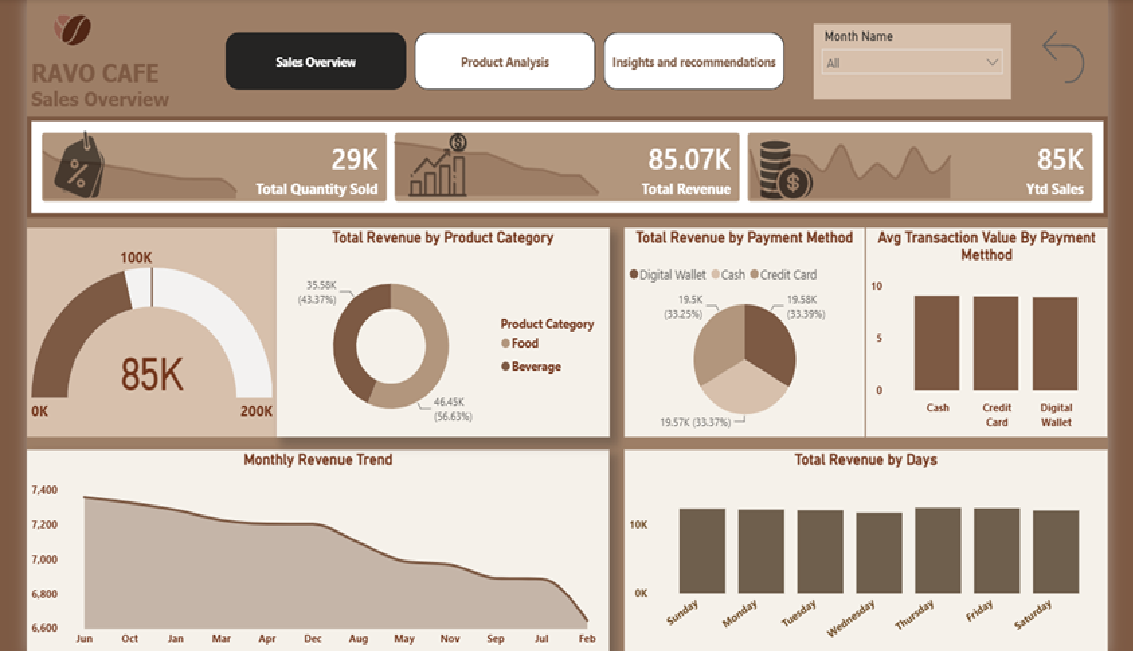

The page's visual inventory and layout, read from the dashboard file:
{"tool":"powerbi","page":{"name":"Sales Overview","canvas":[1280,720],"ordinal":0},"visuals":[{"type":"image","box":[0,0,108.2,68.4],"z":0},{"type":"textbox","box":[0,58.9,235.4,70],"z":1000},{"type":"cardVisual","fields":{"Data":["Measure Table.Total Quantity","Measure Table.Total Sales","Measure Table.Ytd Sales"]},"box":[0,128.8,1280.4,111.3],"z":2000},{"type":"lineChart","title":"Monthly Revenue Trend","fields":{"Y":["Measure Table.Total Sales"],"Category":["Cafe Sales Data.Month Name"]},"box":[0,494.7,690.3,225.9],"z":3000},{"type":"pieChart","fields":{"Y":["Measure Table.Total Sales"],"Category":["Cafe Sales Data.Payment Method"]},"box":[707.8,251.3,284.7,229],"z":4000},{"type":"columnChart","title":"Avg Transaction Value By Payment Metthod","fields":{"Category":["Cafe Sales Data.Payment Method"],"Y":["Measure Table.Avg Amount By Payment Method"]},"box":[994.1,251.3,286.3,229],"z":5000},{"type":"image","box":[416.7,140,140,84.3],"z":6000},{"type":"lineChart","fields":{"Y":["Measure Table.Ytd Sales"],"Category":["Cafe Sales Data.Month Name"]},"box":[843,143.2,264,81.1],"z":7000},{"type":"lineChart","fields":{"Y":["Measure Table.Total Quantity Sold"],"Category":["Cafe Sales Data.Month Name"]},"box":[6.4,144.7,254.5,79.5],"z":8000},{"type":"lineChart","fields":{"Y":["Measure Table.Total Sales"],"Category":["Cafe Sales Data.Month Name"]},"box":[421.5,140,268.8,81.1],"z":9000},{"type":"image","box":[825.5,111.3,149.5,152.7],"z":10000},{"type":"image","box":[6.4,111.3,116.1,144.7],"z":11000},{"type":"slicer","fields":{"Values":["Cafe Sales Data.Month Name"]},"box":[932.1,27,233.8,82.7],"z":12000},{"type":"gauge","fields":{"Y":["Measure Table.Ytd Sales"],"TargetValue":["Measure Table.Target Of Year"],"MaxValue":["Measure Table.Max Value"]},"box":[0,251.3,295.9,229],"z":13000},{"type":"donutChart","fields":{"Y":["Measure Table.Total Revenue"],"Category":["Cafe Sales Data.Product Category"]},"box":[295.9,251.3,394.5,229],"z":14000},{"type":"actionButton","box":[1191.4,27,89.1,73.2],"z":15000},{"type":"pageNavigator","box":[235.4,36.6,664.9,63.6],"z":16000},{"type":"clusteredColumnChart","title":"Total Revenue by Days","fields":{"Y":["Measure Table.Total Revenue"],"Category":["Cafe Sales Data.days"]},"box":[707.8,494.7,572.6,222.7],"z":17000}]}

Visuals, with their boxes in screenshot pixels (x1, y1, x2, y2), scaled from the page's 1280x720 canvas onto the 1133x651 screenshot:
image: box(0, 0, 96, 62)
textbox: box(0, 53, 208, 117)
cardVisual - Measure Table.Total Quantity x Measure Table.Total Sales: box(0, 116, 1132, 217)
"Monthly Revenue Trend" lineChart: box(0, 447, 611, 650)
pieChart - Measure Table.Total Sales x Cafe Sales Data.Payment Method: box(627, 227, 879, 434)
"Avg Transaction Value By Payment Metthod" columnChart: box(880, 227, 1132, 434)
image: box(369, 127, 493, 203)
lineChart - Measure Table.Ytd Sales x Cafe Sales Data.Month Name: box(746, 129, 980, 203)
lineChart - Measure Table.Total Quantity Sold x Cafe Sales Data.Month Name: box(6, 131, 231, 203)
lineChart - Measure Table.Total Sales x Cafe Sales Data.Month Name: box(373, 127, 611, 200)
image: box(731, 101, 863, 239)
image: box(6, 101, 108, 231)
slicer - Cafe Sales Data.Month Name: box(825, 24, 1032, 99)
gauge - Measure Table.Ytd Sales x Measure Table.Target Of Year: box(0, 227, 262, 434)
donutChart - Measure Table.Total Revenue x Cafe Sales Data.Product Category: box(262, 227, 611, 434)
actionButton: box(1055, 24, 1132, 91)
pageNavigator: box(208, 33, 797, 91)
"Total Revenue by Days" clusteredColumnChart: box(627, 447, 1132, 649)
